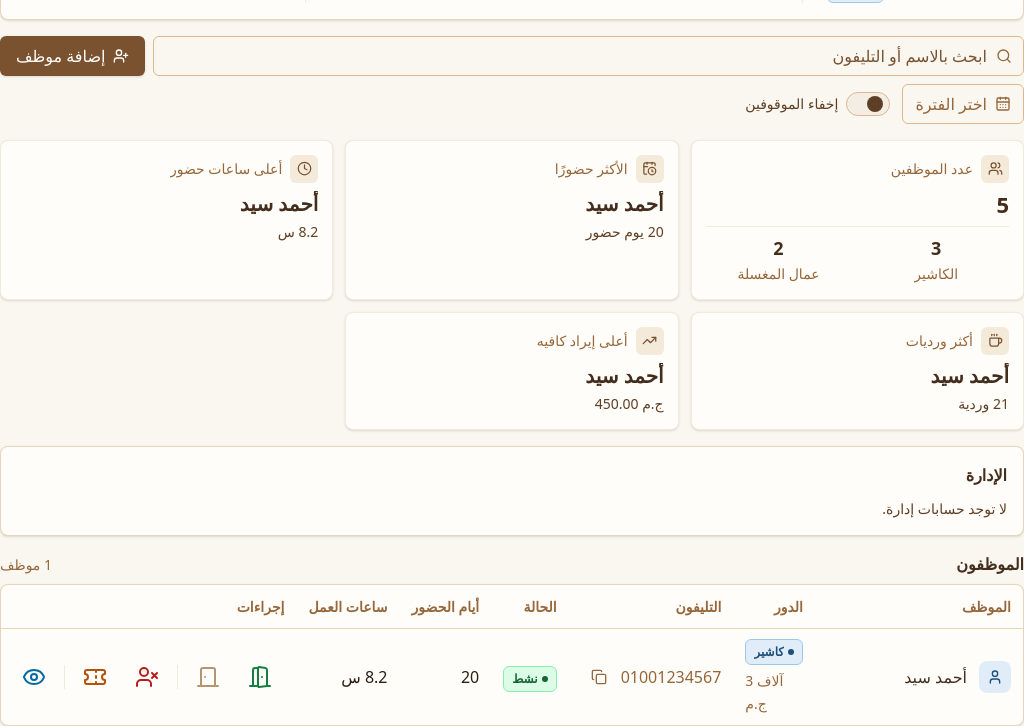
it: EmployeesPage — manager › states the rounding rule for a punch and the closed-day warning for an absence
(page scrolled)
// The two punches are a moment and carry the stored-time rounding rule…
Click the button named "تسجيل حضور أحمد سيد": coordinates (260, 677) x1=236 y1=653 x2=284 y2=701
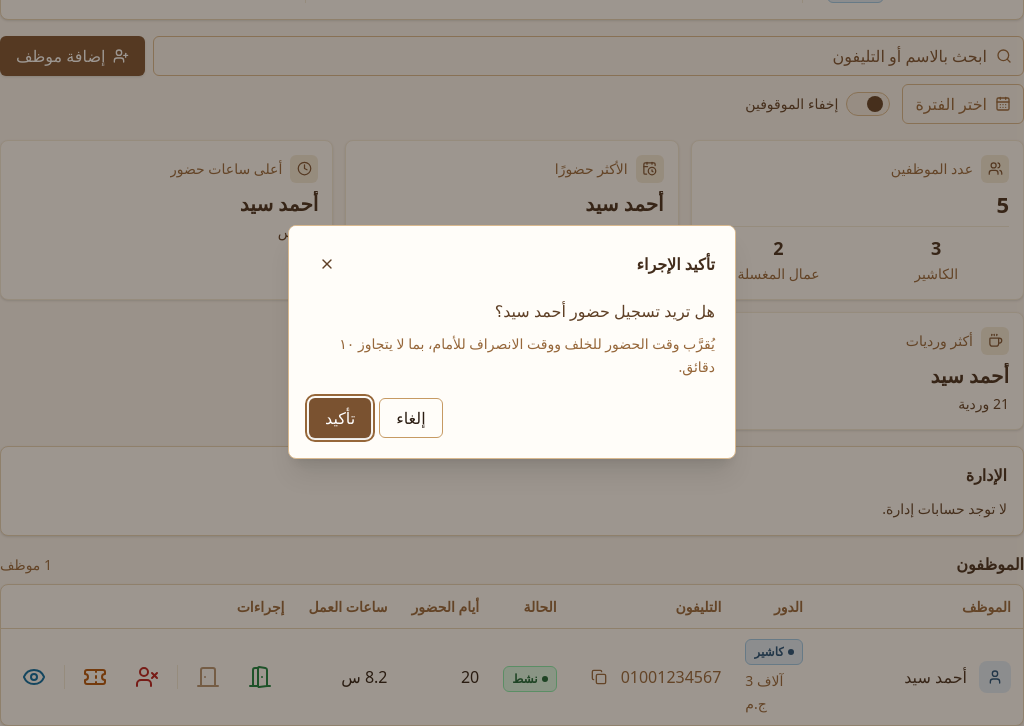
Result: the text "يُقرَّب وقت الحضور للخلف ووقت الانصراف للأمام، بما لا يتجاوز ١٠ دقائق." is shown at x1=309 y1=332 x2=715 y2=378
Click the button "إلغاء": coordinates (411, 418) x1=379 y1=398 x2=443 y2=438
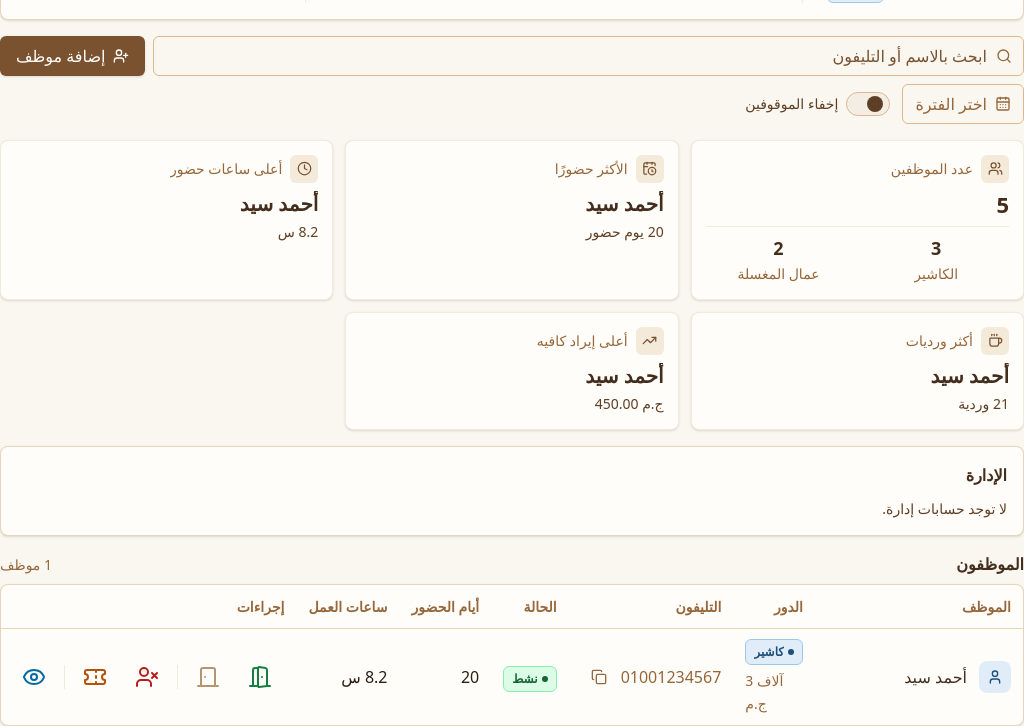
Result: the dialog is gone
Click the button named "تسجيل غياب أحمد سيد": coordinates (148, 677) x1=124 y1=653 x2=172 y2=701
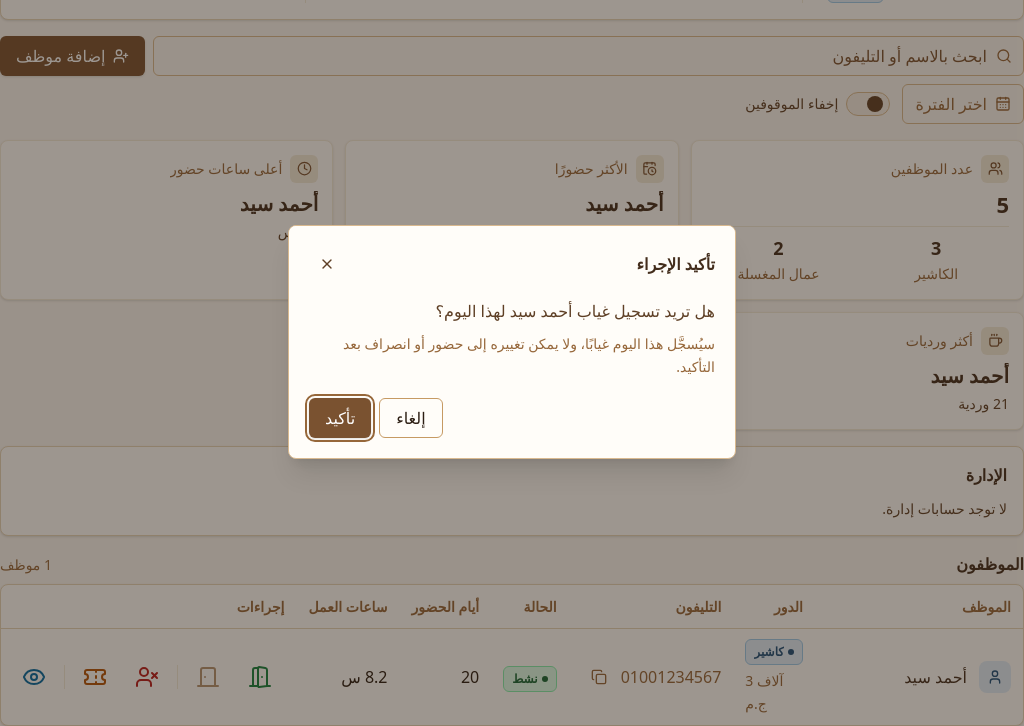
Result: the text "سيُسجَّل هذا اليوم غيابًا، ولا يمكن تغييره إلى حضور أو انصراف بعد التأكيد." is shown at x1=309 y1=332 x2=715 y2=378
